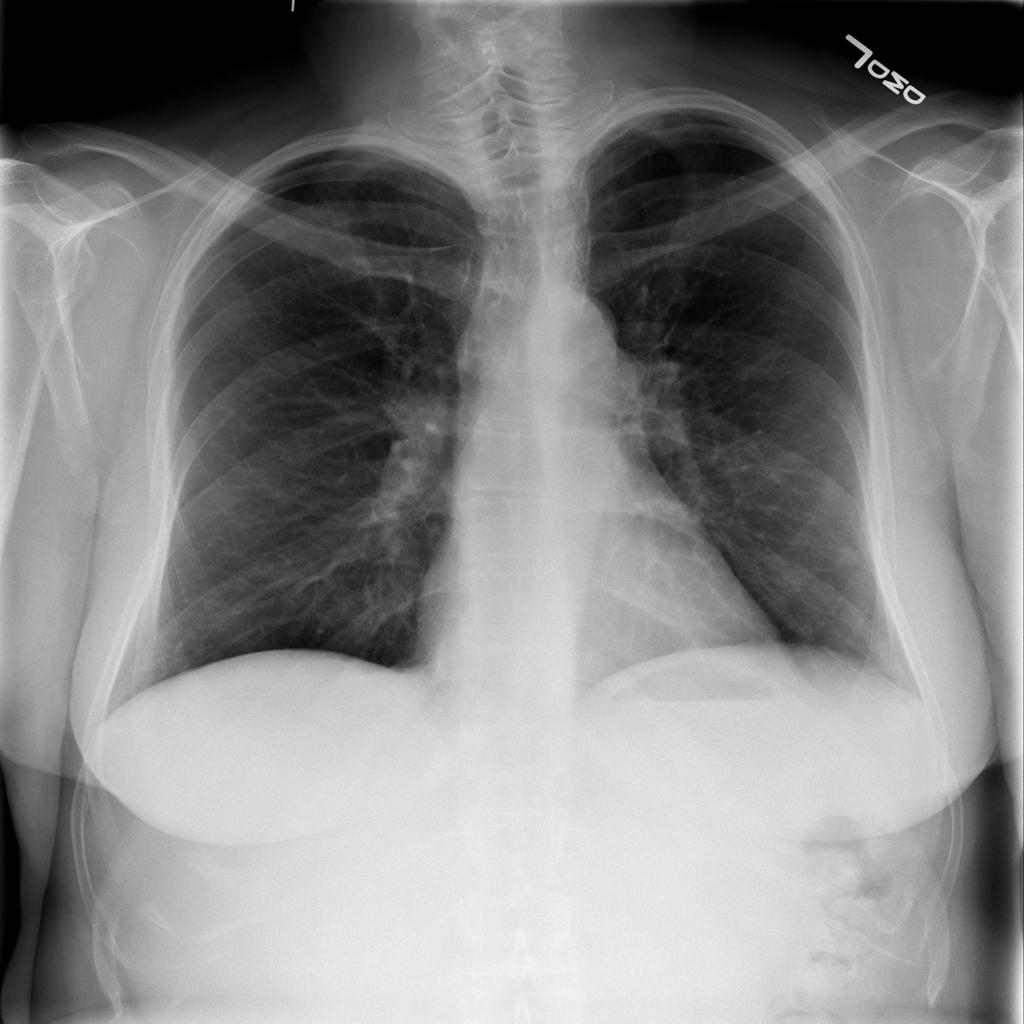nodule: (821, 532, 874, 581)
